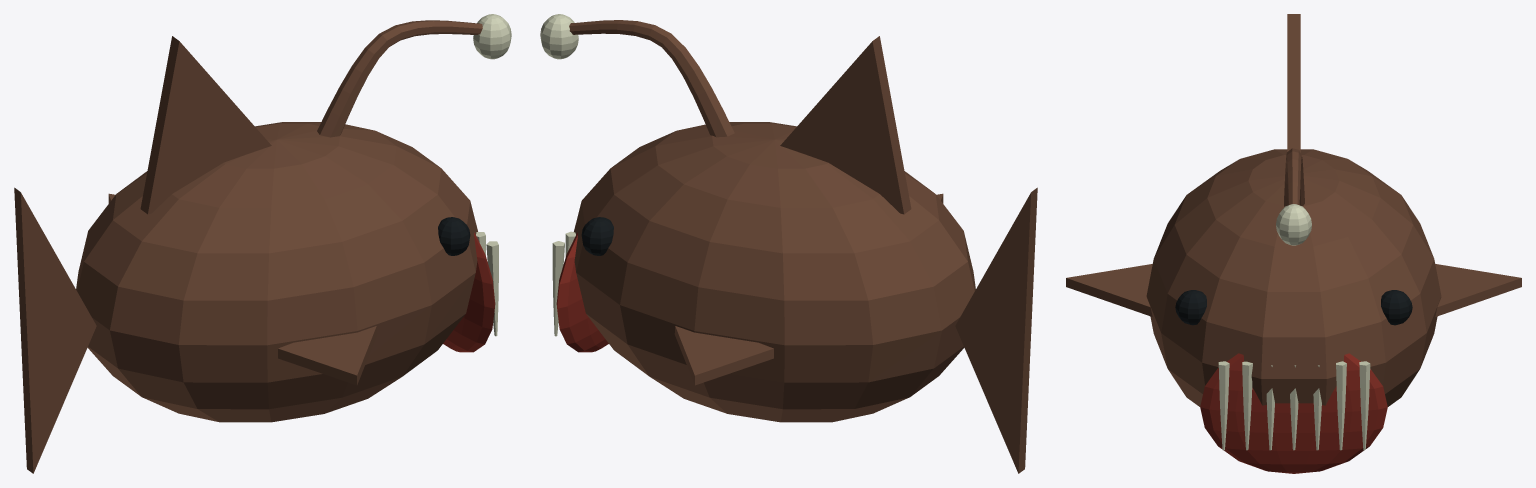
File: anglerfish.dae
3 views of the same model, side by side, from view 1: azimuth 30°, elevation 25°; view 2: azimuth 150°, elevation 25°; view 3: azimuth 270°, elevation 25° (orthographic). The views are drawn at different scales.
Visible parts, largest first — view 1: part3-node, part1-node, part0-node, part2-node; view 2: part3-node, part1-node, part0-node, part2-node; view 3: part3-node, part1-node, part0-node, part2-node.
Boxes of the visible parts, left/top/right/bottom form: part3-node: left=14, top=20, right=482, bottom=473; part1-node: left=443, top=232, right=495, bottom=352; part0-node: left=473, top=14, right=511, bottom=336; part2-node: left=438, top=217, right=470, bottom=255; part3-node: left=569, top=20, right=1037, bottom=473; part1-node: left=556, top=232, right=608, bottom=352; part0-node: left=540, top=14, right=578, bottom=336; part2-node: left=581, top=217, right=613, bottom=255; part3-node: left=1066, top=14, right=1521, bottom=406; part1-node: left=1200, top=353, right=1387, bottom=473; part0-node: left=1218, top=204, right=1370, bottom=450; part2-node: left=1175, top=290, right=1412, bottom=325.
Bounding box in the file's own units: 0.35 × 0.3068 × 0.2707.
